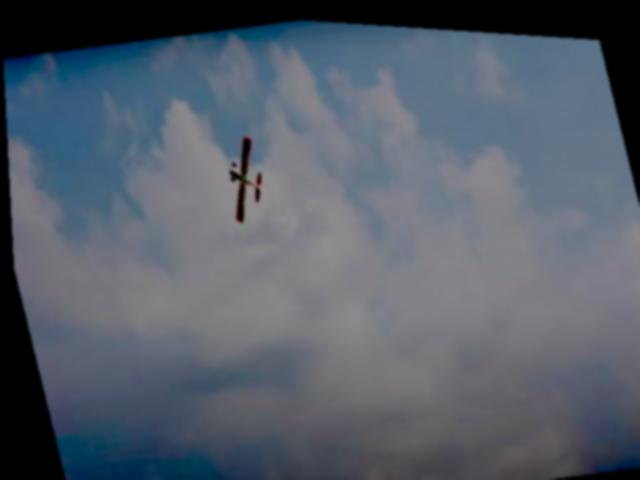uav: (210, 122, 277, 229)
